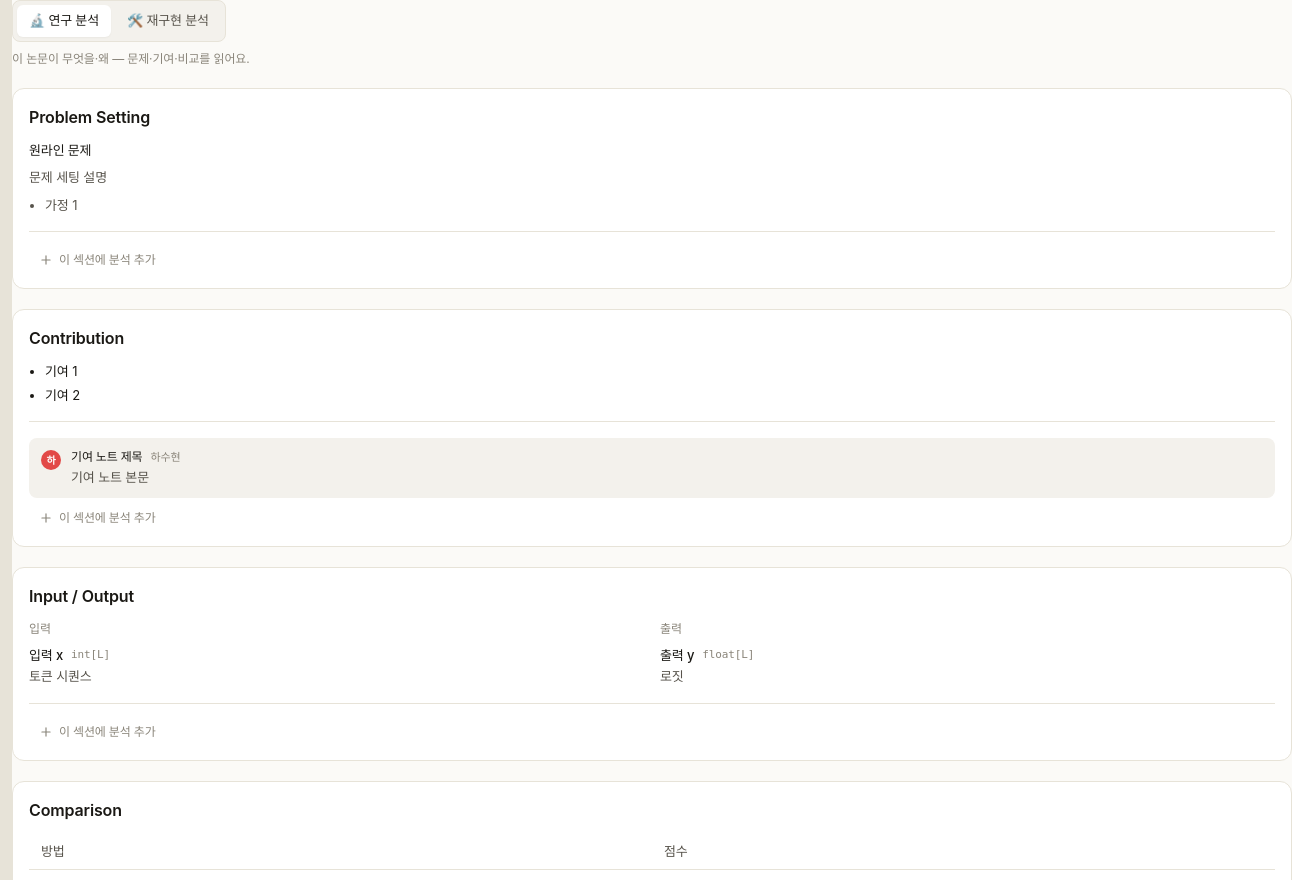
Test: AnalysisView 관점 토글 › 연구↔재구현 섹션을 전환한다
This screenshot has width=1292, height=880.
Expected: the heading "Contribution" is shown, [29,328,124,348]
Expected: the heading "데이터" is not shown
Click the button "🛠️ 재구현 분석": (168, 21) [115,5,221,36]
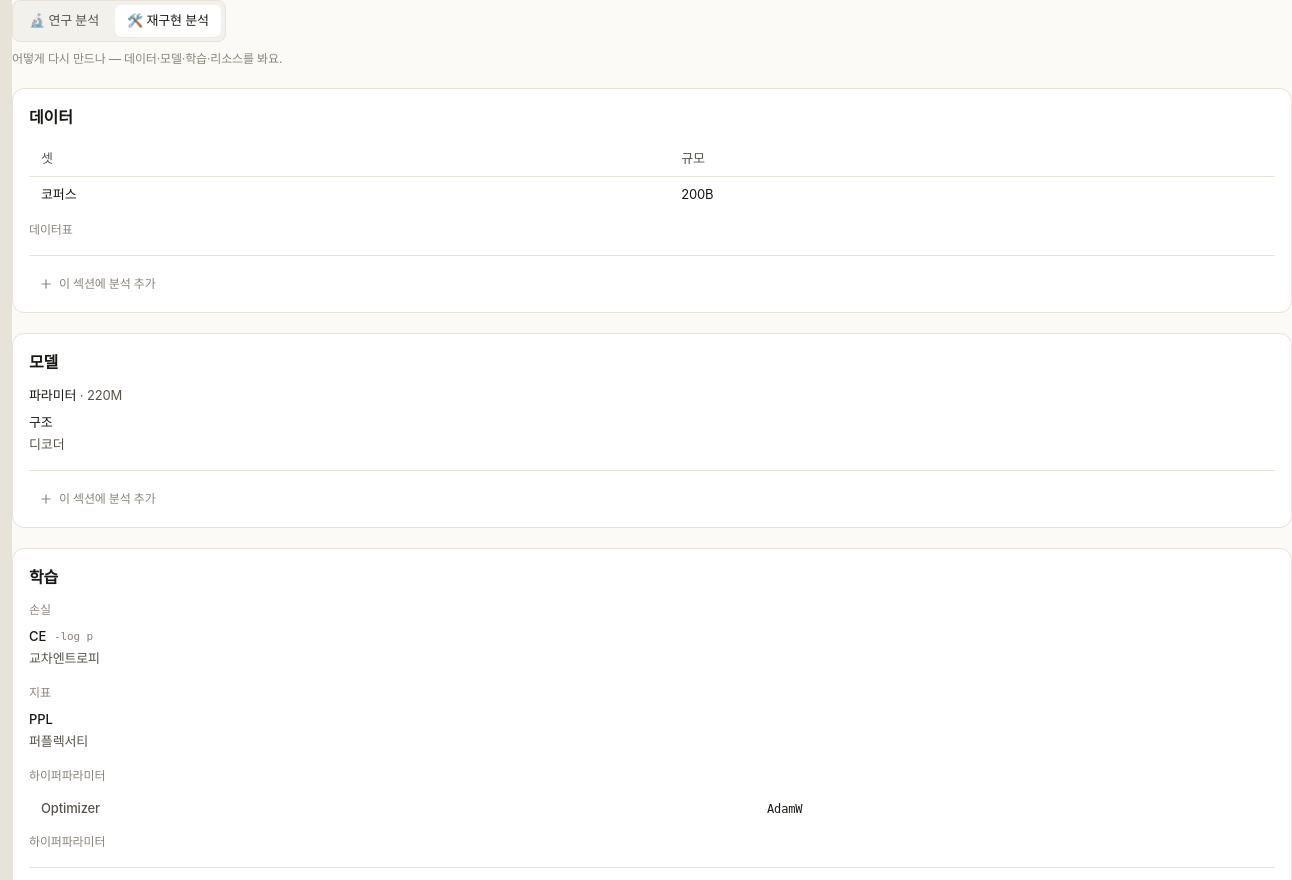
Result: the heading "데이터" is shown at [29,106,73,126]
Result: the heading "모델" is shown at [29,352,58,372]
Result: the heading "Contribution" is gone
